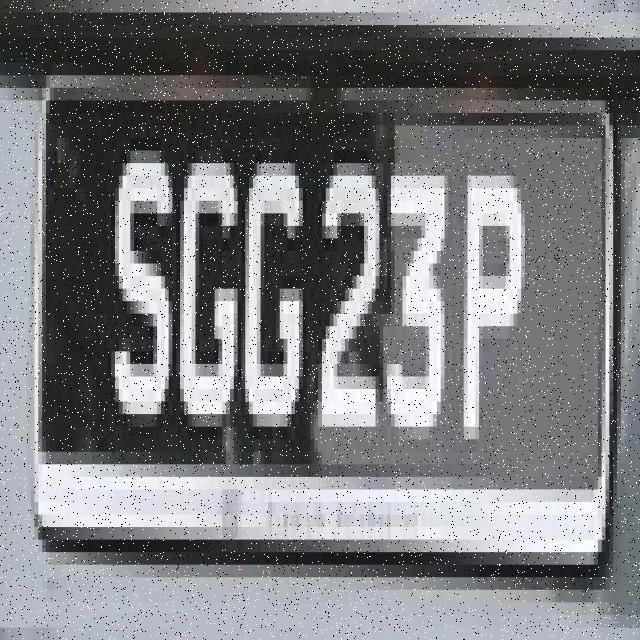LicensePlate: (35, 75, 620, 574)
